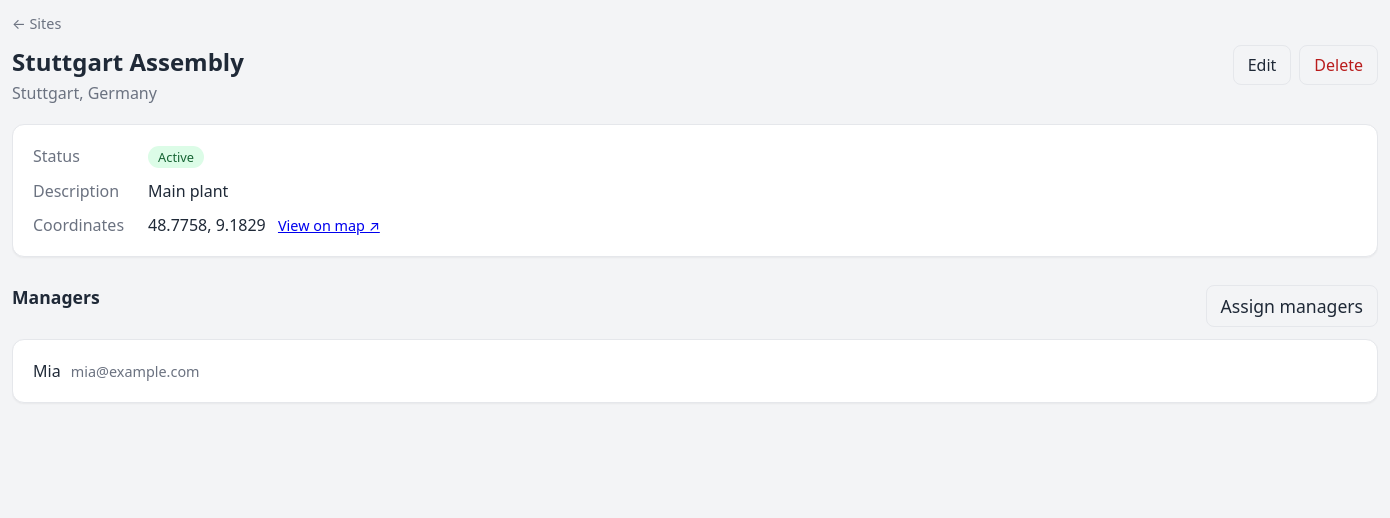
Test case: SiteDetailPage › lets a director assign managers
What coordinates should you click on to do the following:
click the button "Assign managers"
I would click on:
 (1292, 306)
Its box is [1206,285,1378,327].
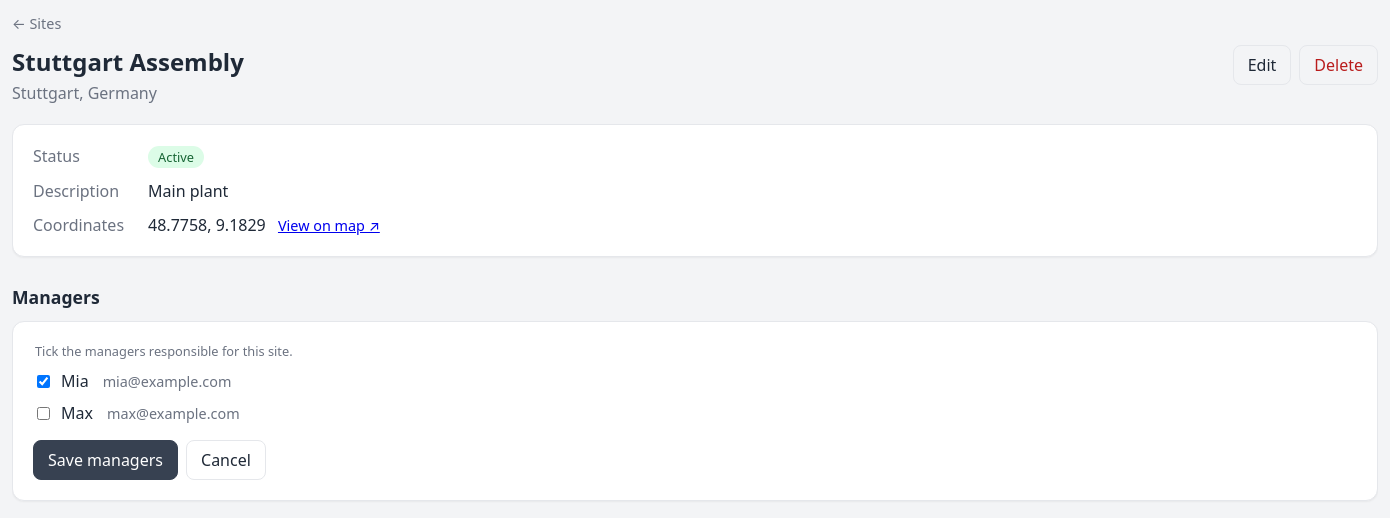
Check: the checkbox labelled "Mia mia@example.com" is checked
What coordinates should you click on to do the following:
click the checkbox labelled "Mia mia@example.com"
I would click on:
 (44, 381)
Its box is [37,374,50,388].
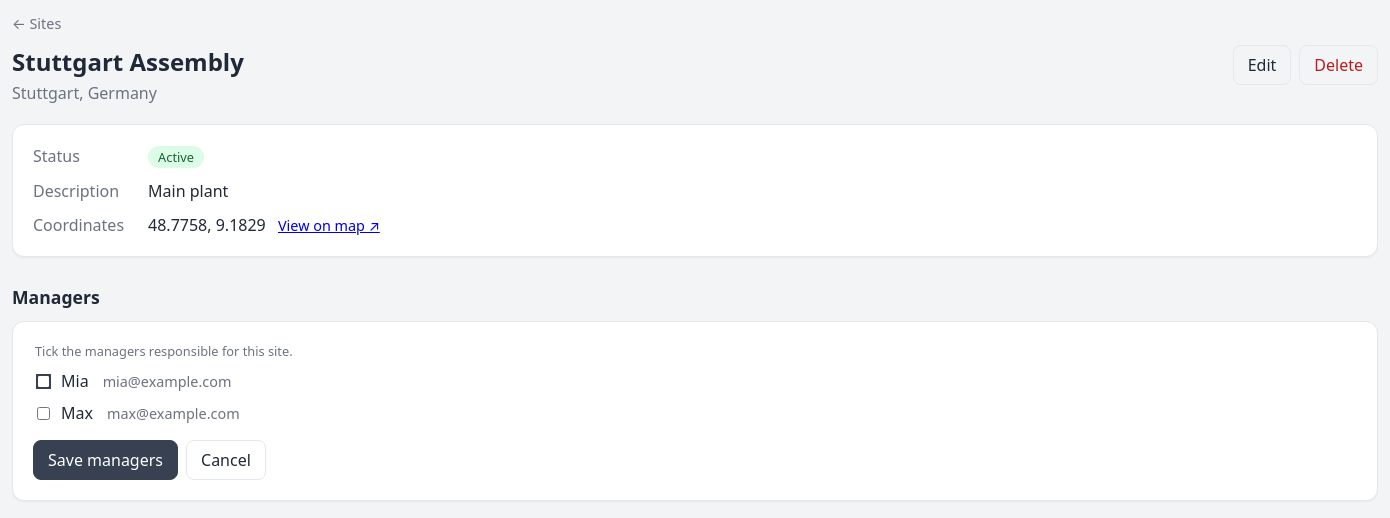
What coordinates should you click on to do the following:
click the checkbox labelled "Max max@example.com"
I would click on:
 (44, 413)
Its box is [37,406,50,420].
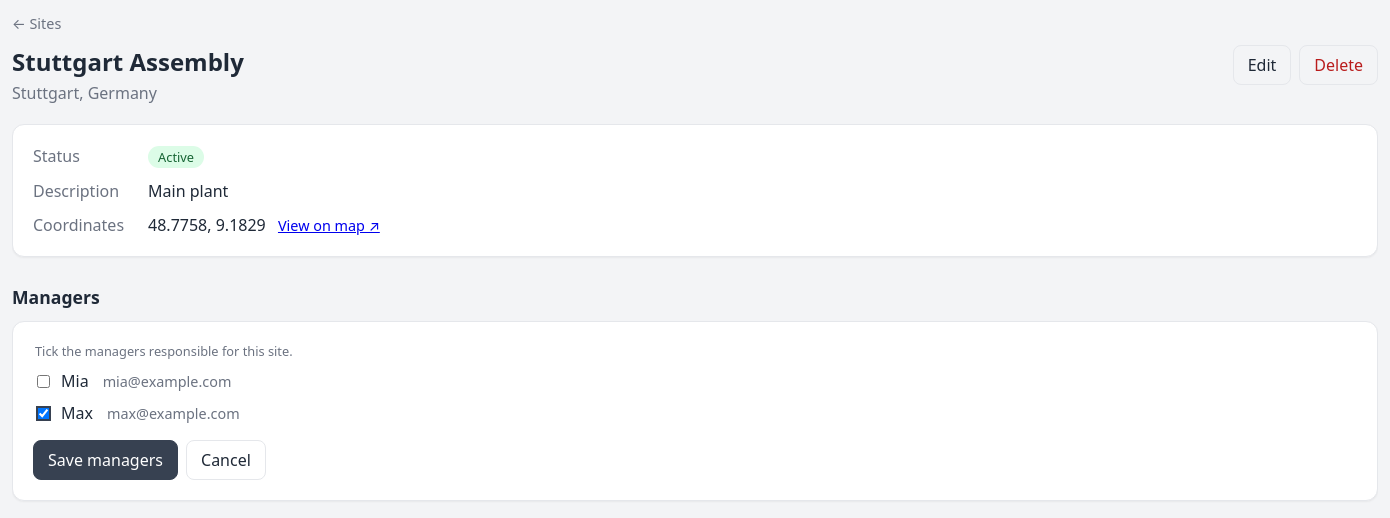
What coordinates should you click on to do the following:
click the button "Save managers"
I would click on:
 (106, 460)
Its box is [33,440,178,480].
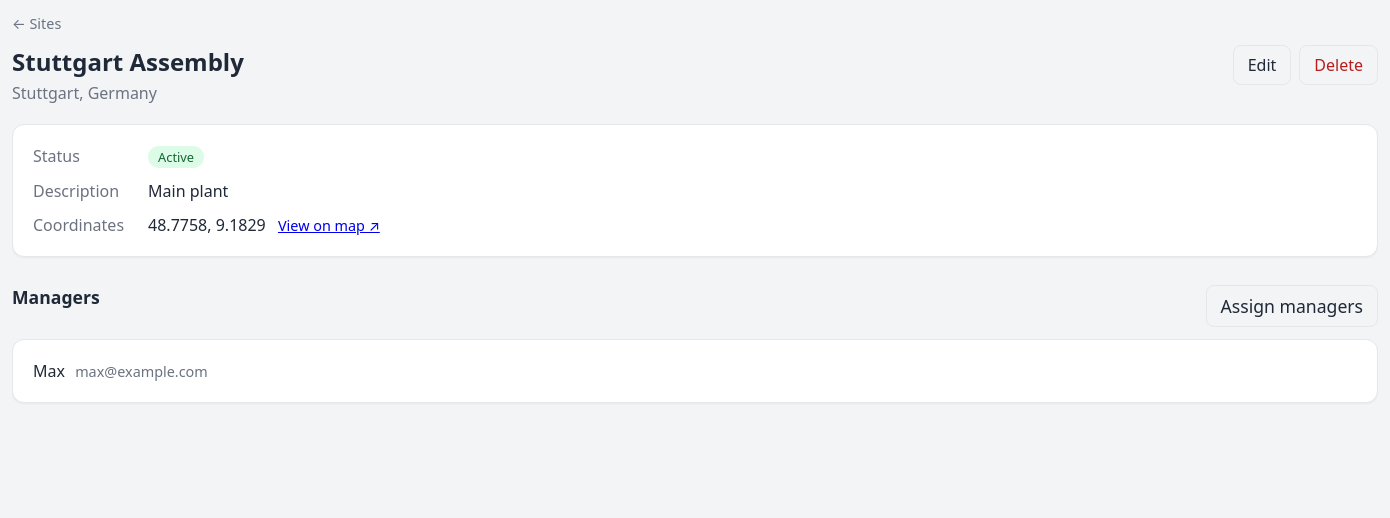
Check: the list item "Max" is shown, box [33,360,65,382]
Check: the text "mia" is gone
